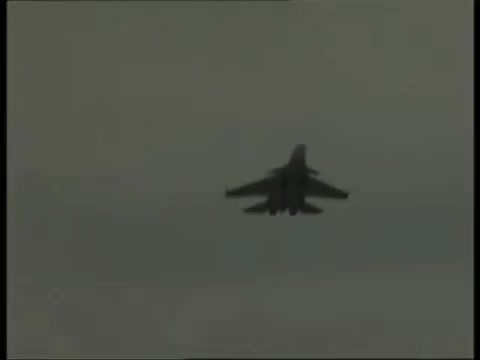aeroplane: (223, 142, 352, 220)
